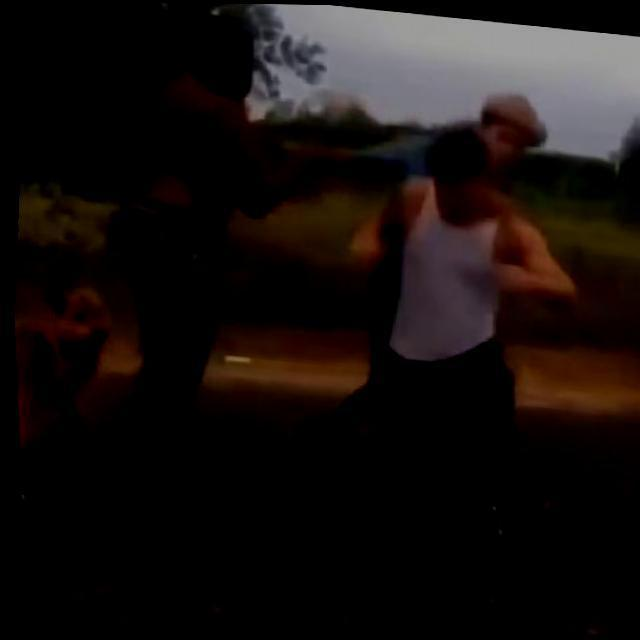fight: (250, 64, 600, 562)
